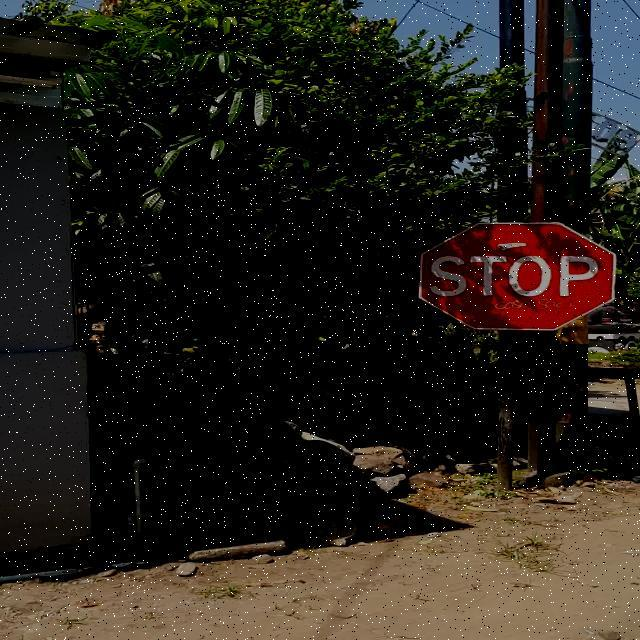Berhenti: (418, 222, 617, 332)
